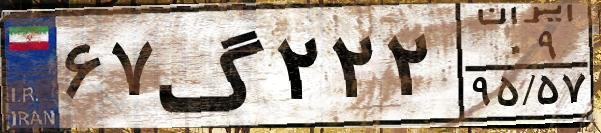0: (508, 27, 537, 80)
2: (270, 28, 330, 110), (385, 28, 445, 110), (330, 28, 385, 110)
5: (495, 70, 520, 125), (535, 70, 560, 125)
6: (57, 26, 110, 100)
7: (110, 28, 156, 98), (560, 70, 590, 125)
9: (537, 27, 568, 80), (470, 70, 495, 125)
گ: (156, 12, 270, 120)
